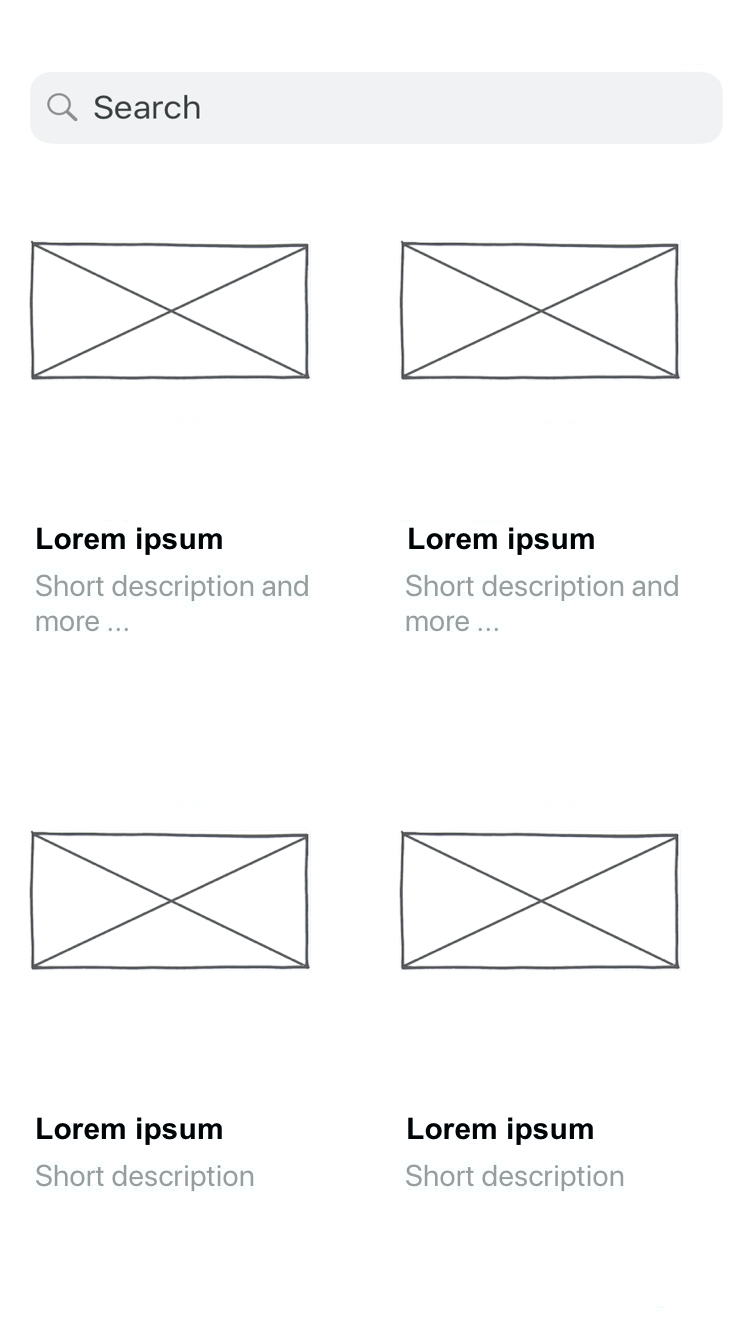EditText: (30, 72, 724, 146)
Icon: (47, 93, 79, 123)
Image: (398, 829, 681, 972), (29, 829, 311, 972), (29, 240, 311, 383), (398, 241, 681, 382)
Text: (36, 574, 310, 633), (406, 574, 679, 633), (405, 1163, 625, 1192), (36, 1164, 256, 1193), (37, 526, 224, 557), (408, 527, 596, 557), (407, 1116, 595, 1146), (37, 1116, 224, 1146), (94, 95, 201, 121)
